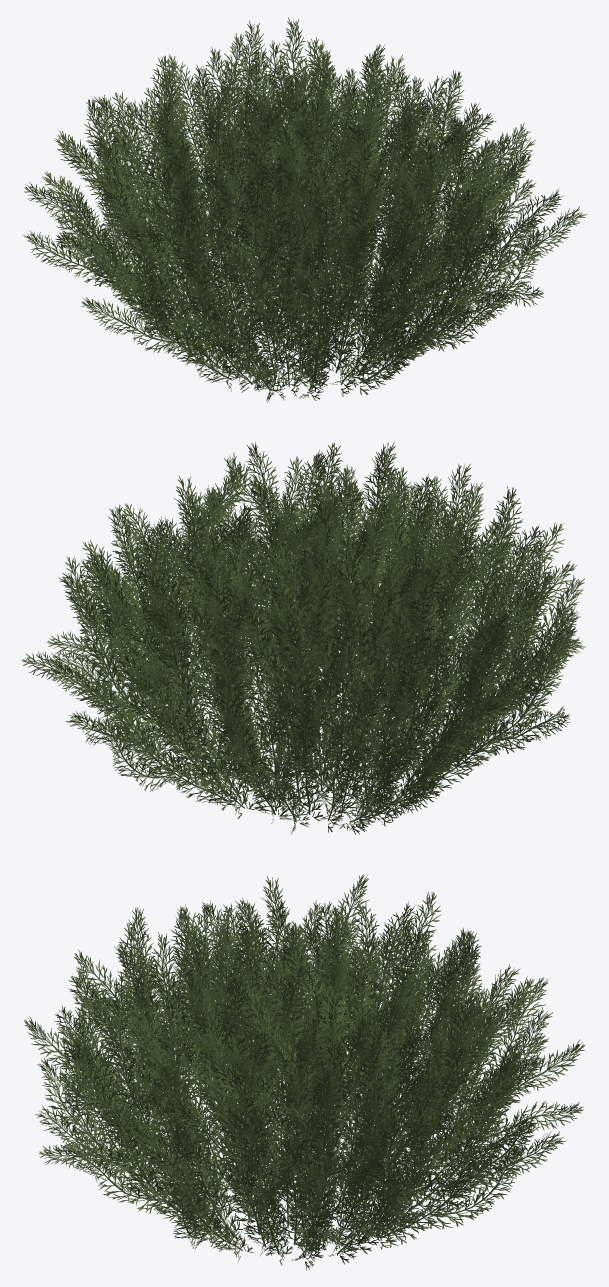
Rendered from Artemisia_Californica_04.fbx.
The picture shows the model from 3 angles, top to bottom: view 1: azimuth 30°, elevation 25°; view 2: azimuth 150°, elevation 25°; view 3: azimuth 270°, elevation 25°; orthographic projection. The views are drawn at different scales.
Visible parts, largest first — view 1: Artemisia_californica_D001; view 2: Artemisia_californica_D001; view 3: Artemisia_californica_D001.
Boxes of the visible parts, x1,y1,x2,y2 form: Artemisia_californica_D001: [23, 17, 587, 402]; Artemisia_californica_D001: [21, 442, 586, 834]; Artemisia_californica_D001: [24, 874, 584, 1269].
Size of the model in its own units: 113 by 69.42 by 115.
